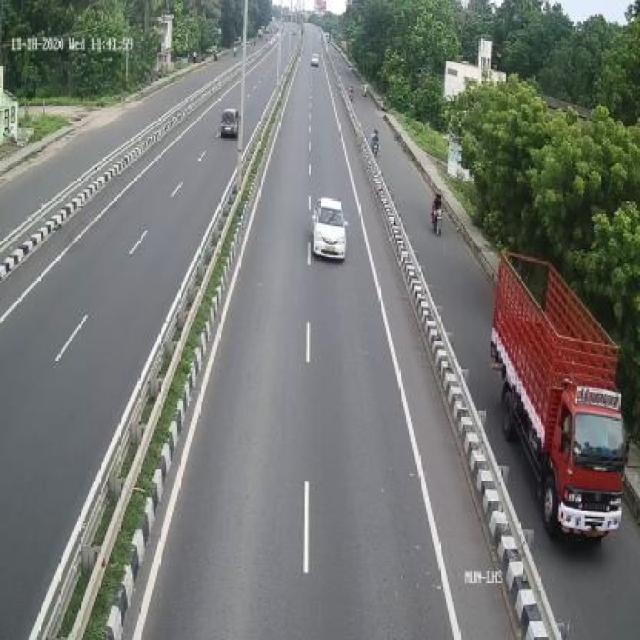car: (312, 192, 350, 265), (217, 102, 243, 144)
